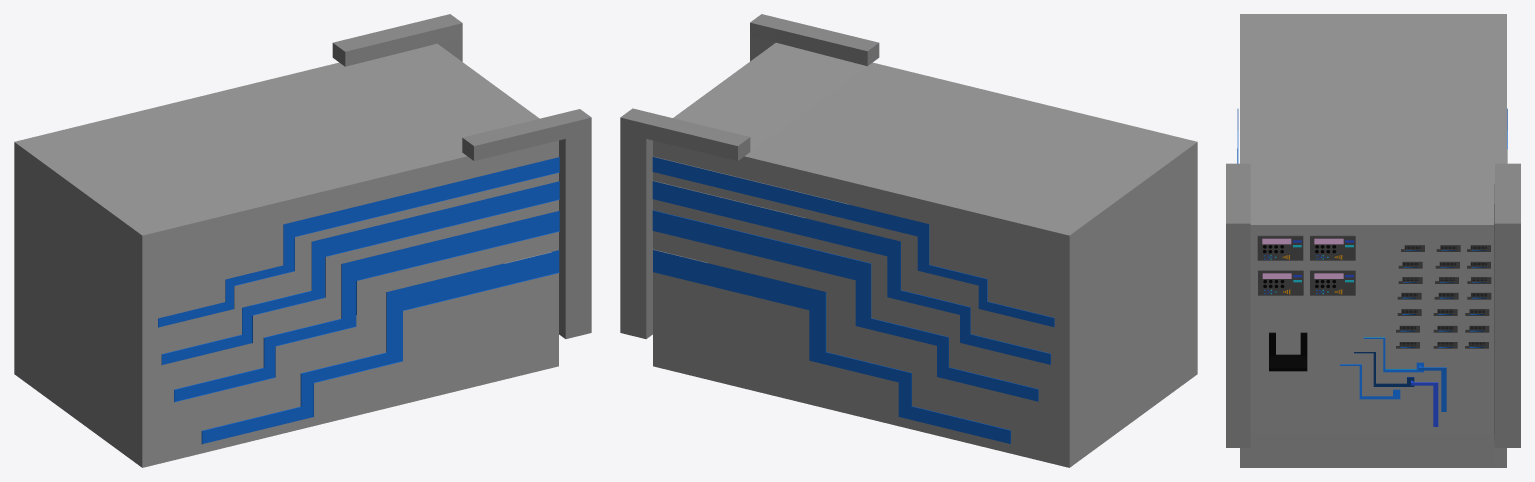
File: MegaComputer5.fbx
3 views of the same model, side by side, from view 1: azimuth 30°, elevation 25°; view 2: azimuth 150°, elevation 25°; view 3: azimuth 270°, elevation 25° (orthographic). The views are drawn at different scales.
Parts seen in each view (by area): view 1: Cube; view 2: Cube; view 3: Cube, Куб, Куб.001.
Boxes of the visible parts, <box> form: Cube: <box>14,14,591,467</box>; Cube: <box>620,14,1197,467</box>; Cube: <box>1226,14,1520,467</box>; Куб: <box>1419,365,1446,411</box>; Куб.001: <box>1411,380,1438,426</box>.
Bounding box in the file's own units: 529 × 282 × 292.
